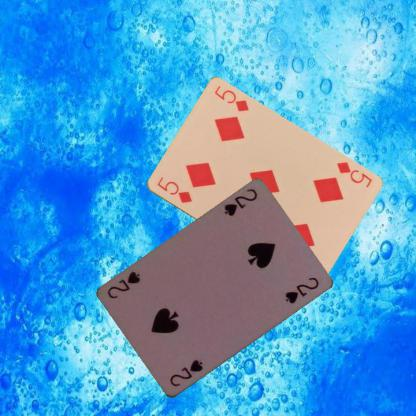2s: (221, 186, 259, 218), (167, 356, 204, 388)
5d: (333, 159, 373, 189), (154, 174, 193, 204)
